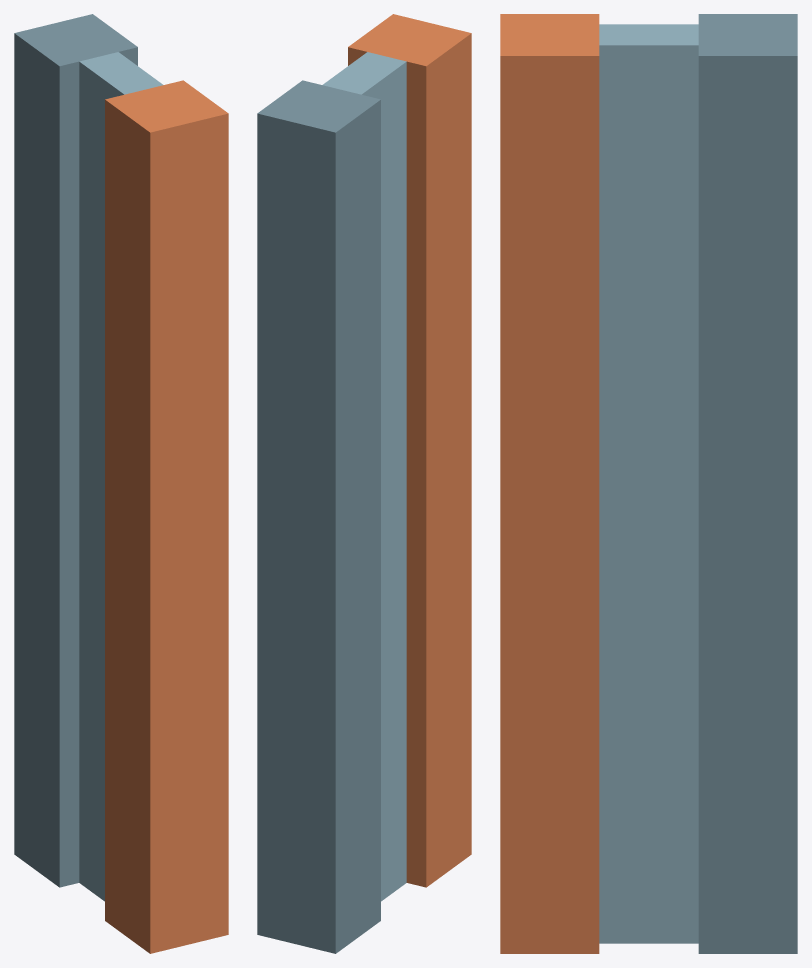
File: wallArch.obj
3 renders of one model, left to right at view 1: azimuth 30°, elevation 25°; view 2: azimuth 150°, elevation 25°; view 3: azimuth 270°, elevation 25°, orthographic. The views are drawn at different scales.
Visible parts, largest first — view 1: wallArch; view 2: wallArch; view 3: wallArch.
Boxes of the visible parts, bbox=[...] form: wallArch: bbox=[14, 14, 228, 953]; wallArch: bbox=[257, 14, 471, 953]; wallArch: bbox=[500, 14, 797, 953].
Bounding box in the file's own units: 0.1 × 1 × 0.3.
